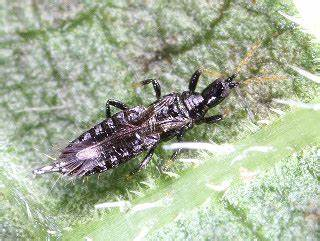Phlaeothripidae: (34, 40, 282, 190)
